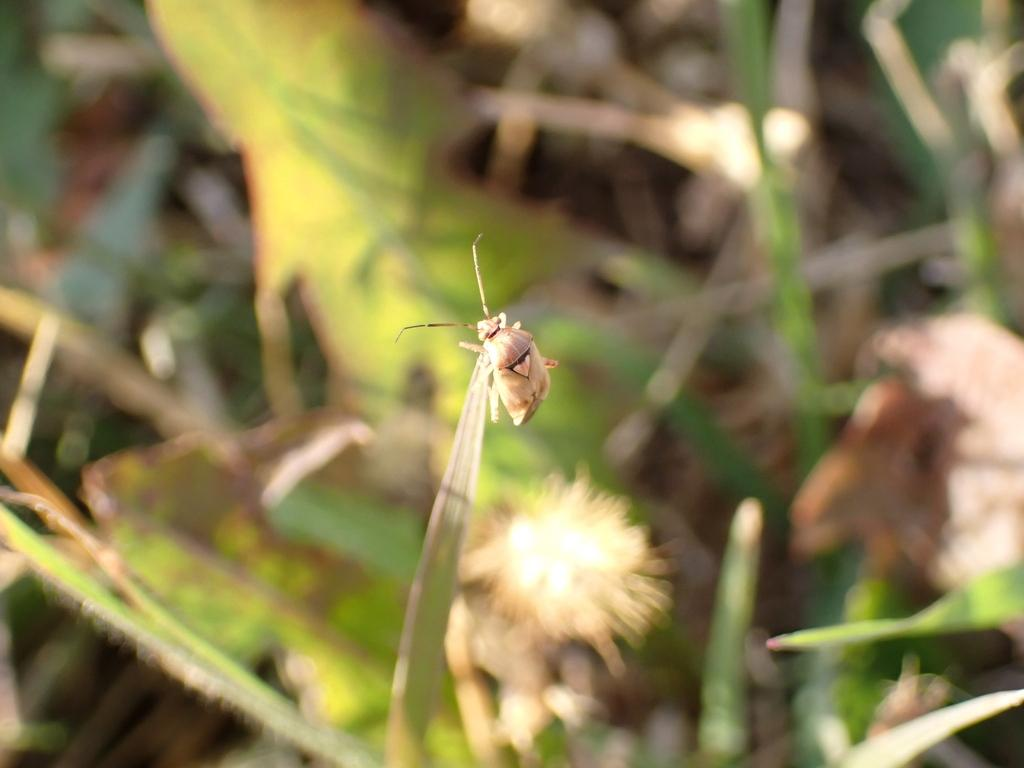plant_bugs: (364, 225, 608, 451)
